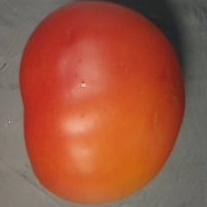unripe: (17, 0, 189, 207)
